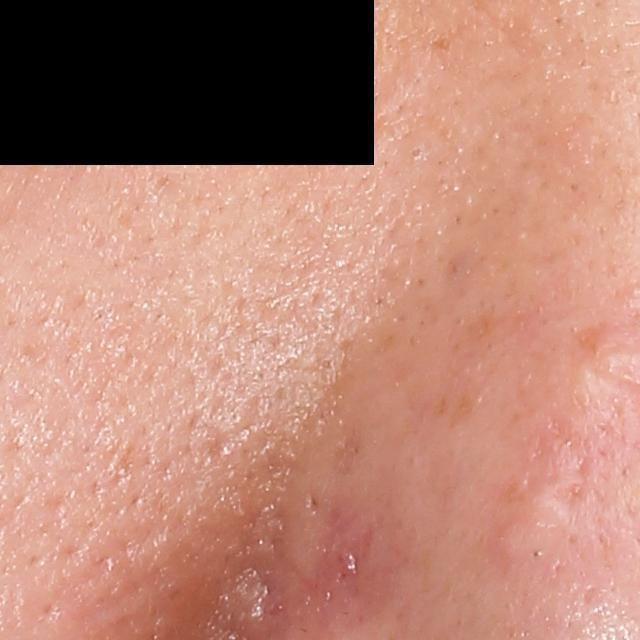hypertrophic_scar: (487, 433, 588, 573)
